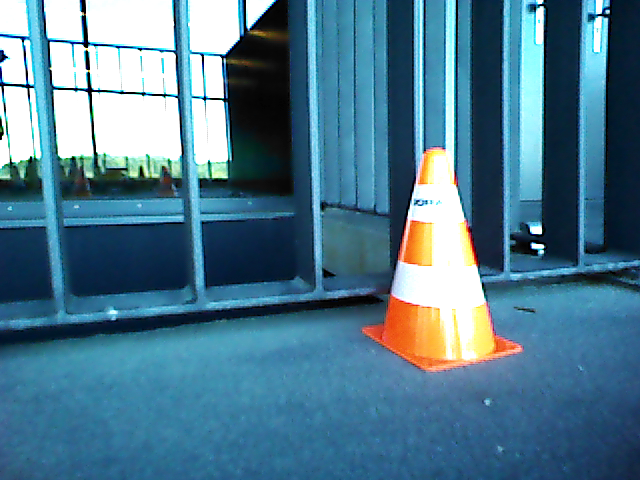orangeconesmall: (380, 147, 503, 360)
